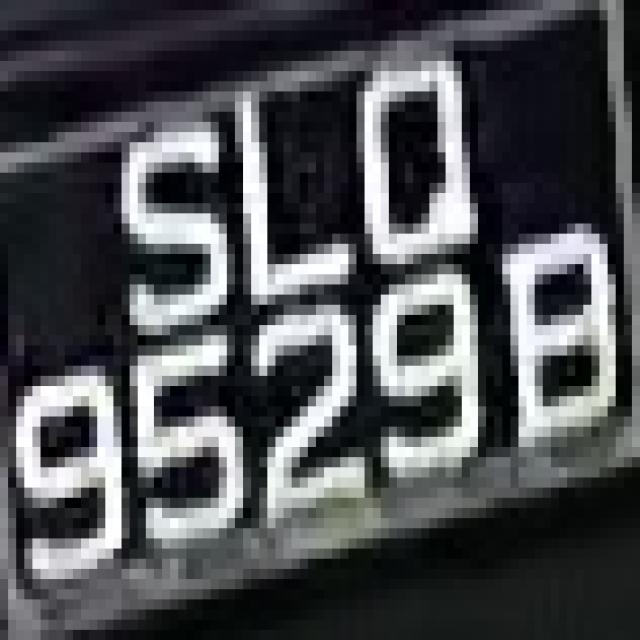2: (235, 274, 356, 508)
5: (122, 315, 259, 579)
9: (357, 254, 486, 518), (24, 336, 138, 600)
B: (494, 193, 616, 477)
L: (210, 71, 364, 325)
Q: (340, 31, 478, 294)
S: (89, 92, 235, 346)
